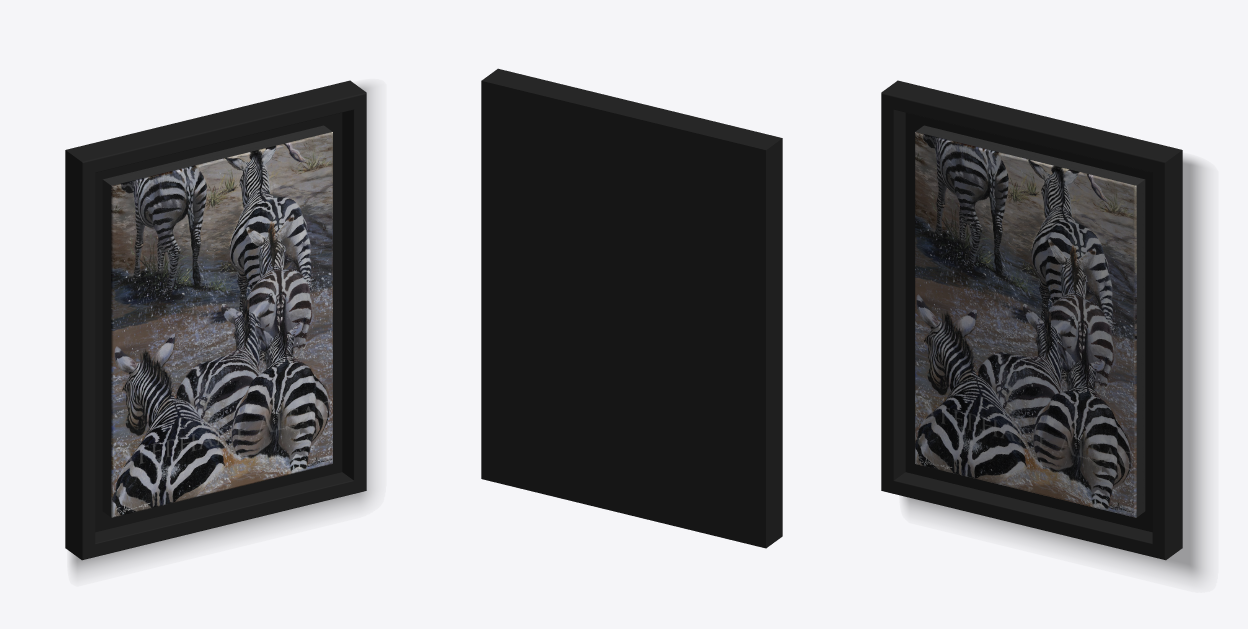
The model's file is tableau-zebres-classique-0274b5f0.glb.
3 renders of one model, left to right at view 1: azimuth 30°, elevation 25°; view 2: azimuth 150°, elevation 25°; view 3: azimuth 330°, elevation 25°, orthographic.
Parts seen in each view (by area): view 1: Painting; view 2: Painting; view 3: Painting.
Boxes of the visible parts, left/top/right/bottom form: Painting: left=65, top=80, right=371, bottom=573; Painting: left=481, top=68, right=782, bottom=548; Painting: left=881, top=80, right=1203, bottom=578.
Size of the model in its own units: 0.526 by 0.656 by 0.04.
5 materials, 3 textured.
